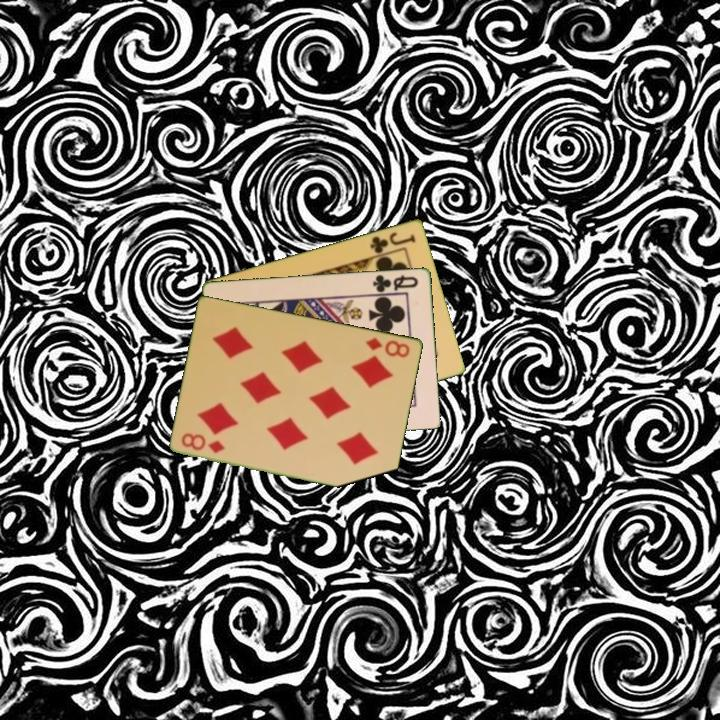8d: (178, 429, 228, 456), (362, 334, 413, 360)
Jc: (366, 228, 419, 256)
Qc: (369, 271, 421, 296)
